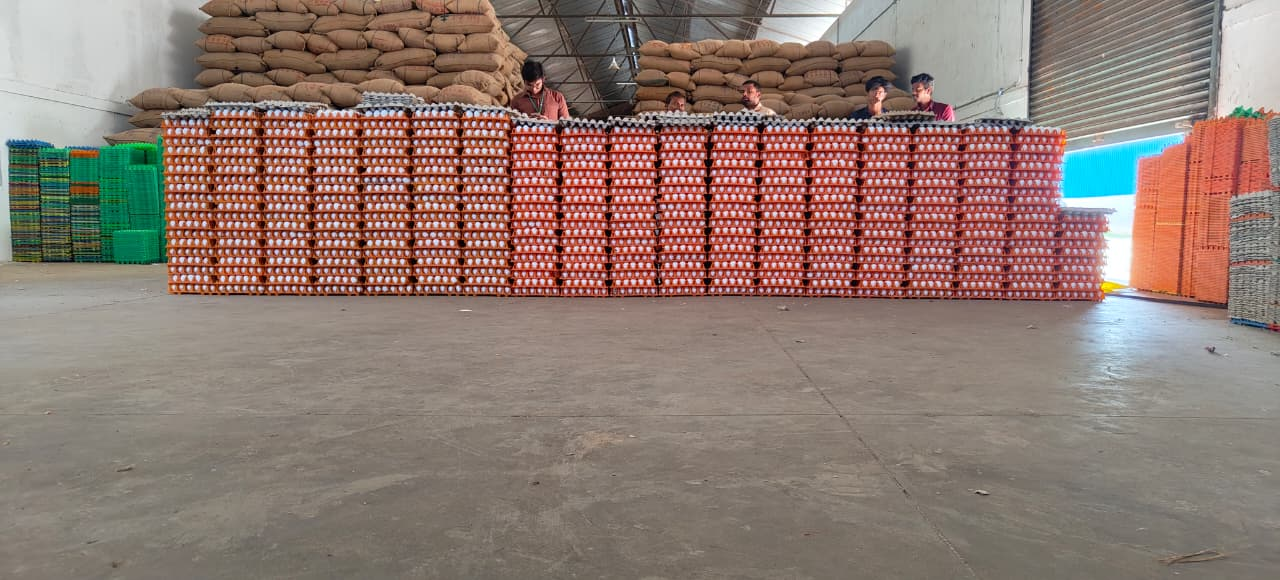egg_tray: (310, 274, 359, 288), (314, 103, 359, 118), (268, 280, 309, 295), (309, 135, 363, 146), (314, 153, 358, 166), (216, 210, 263, 222), (316, 246, 359, 259), (170, 250, 204, 266), (218, 235, 262, 247), (260, 138, 307, 149), (165, 173, 204, 186), (318, 187, 357, 200), (367, 109, 403, 123), (268, 191, 312, 202), (515, 125, 563, 135), (268, 210, 311, 221), (264, 263, 307, 274), (223, 199, 259, 212), (464, 110, 506, 121), (264, 226, 310, 236), (370, 283, 416, 293), (163, 181, 208, 191), (215, 230, 270, 238), (265, 108, 309, 118), (314, 178, 362, 187), (265, 238, 308, 248), (270, 165, 309, 176), (167, 220, 214, 229), (213, 110, 255, 120), (314, 163, 356, 173), (161, 138, 207, 147), (315, 145, 361, 154), (221, 256, 262, 266), (316, 181, 357, 191), (318, 207, 359, 217), (365, 138, 416, 146), (168, 213, 213, 222), (268, 158, 308, 168), (166, 127, 210, 136), (217, 192, 266, 200), (171, 283, 214, 292), (168, 192, 206, 202), (215, 146, 257, 155), (267, 146, 308, 155), (312, 266, 364, 273), (266, 219, 310, 227), (314, 238, 358, 246), (367, 147, 411, 155), (171, 249, 210, 258), (220, 175, 259, 184), (217, 141, 260, 149), (367, 214, 410, 222), (214, 120, 263, 127), (214, 248, 263, 255), (313, 127, 362, 134), (227, 286, 265, 295), (167, 230, 209, 238), (360, 182, 408, 189), (362, 233, 410, 240), (264, 174, 305, 182), (267, 183, 308, 191), (368, 204, 409, 212), (218, 165, 254, 174), (163, 158, 209, 165), (216, 159, 262, 166), (266, 250, 312, 257), (314, 229, 360, 236), (368, 129, 414, 136), (222, 272, 262, 280), (418, 111, 458, 119), (267, 120, 302, 129), (267, 203, 312, 210), (365, 223, 410, 230), (221, 184, 260, 192), (358, 197, 410, 203), (308, 123, 369, 128), (266, 129, 303, 137), (167, 164, 209, 171), (160, 122, 208, 128), (321, 218, 353, 227), (321, 257, 357, 265), (216, 222, 257, 229), (218, 266, 265, 272), (270, 256, 310, 263), (366, 165, 406, 172), (165, 202, 211, 208), (368, 258, 414, 264), (364, 176, 409, 182), (165, 148, 209, 154), (217, 128, 254, 135), (270, 275, 306, 282), (368, 242, 410, 248), (172, 268, 211, 274), (317, 202, 356, 208), (368, 249, 413, 254), (370, 266, 411, 271), (363, 158, 413, 162), (169, 274, 207, 279), (171, 241, 206, 246), (372, 278, 406, 281), (362, 193, 407, 194)
